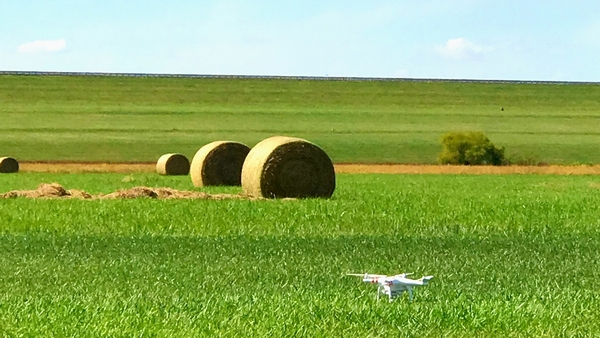drone: (344, 268, 435, 305)
